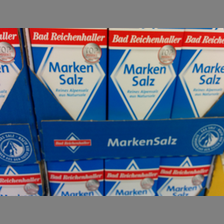spices: (26, 28, 106, 122), (107, 28, 185, 120), (172, 29, 220, 118)
